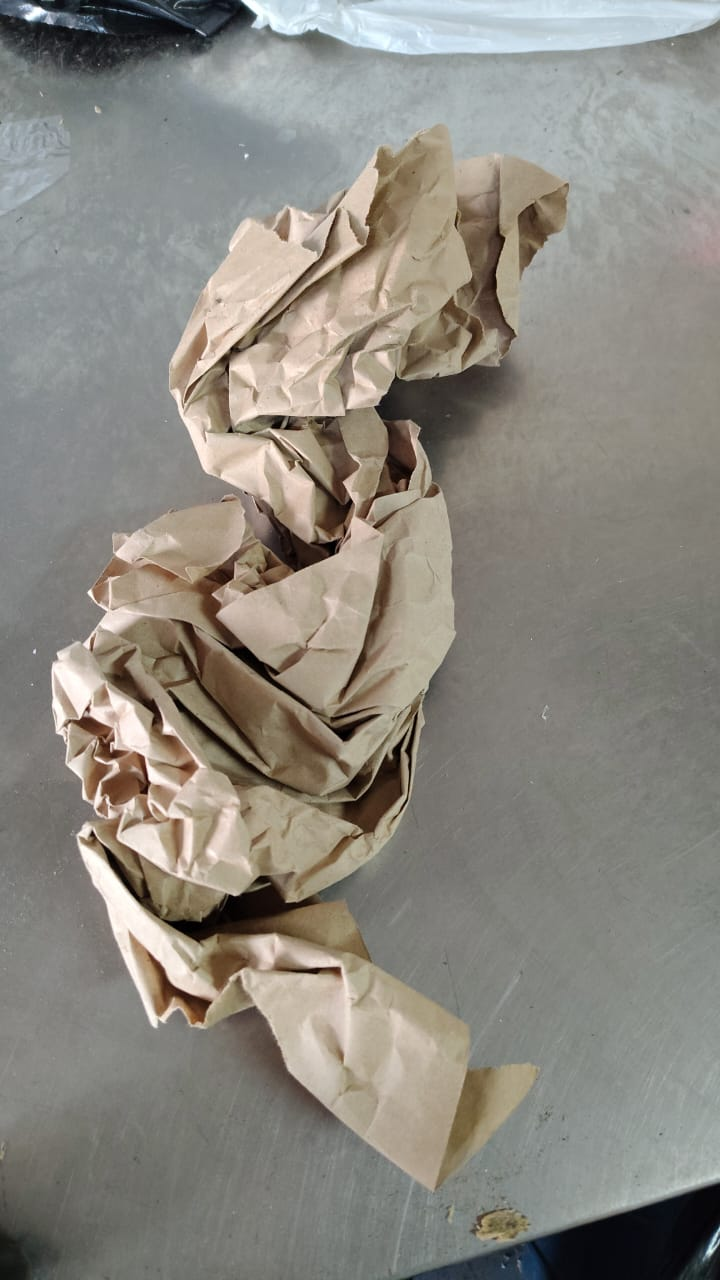Papel: (54, 120, 577, 1191)
